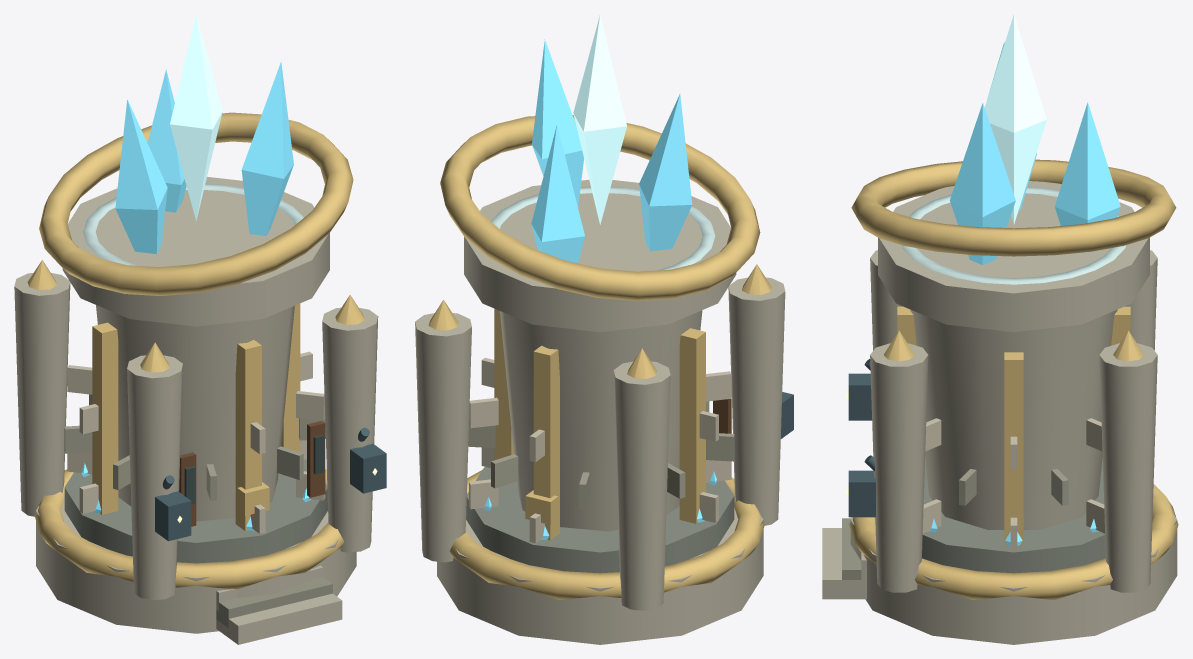
File: tower-frost-2-base.glb
3 renders of one model, left to right at view 1: azimuth 30°, elevation 25°; view 2: azimuth 150°, elevation 25°; view 3: azimuth 270°, elevation 25°, orthographic.
Parts seen in each view (by area): view 1: Foundation, Turret, frost-L2-base; view 2: Foundation, Turret, frost-L2-base; view 3: Foundation, Turret, frost-L2-base.
Part boxes in pixels (x1,y1,x2,y2): Foundation: [14, 260, 386, 644]; Turret: [39, 14, 353, 326]; frost-L2-base: [36, 459, 356, 633]; Foundation: [415, 264, 793, 610]; Turret: [440, 14, 760, 332]; frost-L2-base: [437, 467, 763, 644]; Foundation: [822, 250, 1178, 599]; Turret: [851, 14, 1176, 332]; frost-L2-base: [850, 458, 1177, 644].
Bounding box in the file's own units: 1.69 × 3.19 × 1.83.
